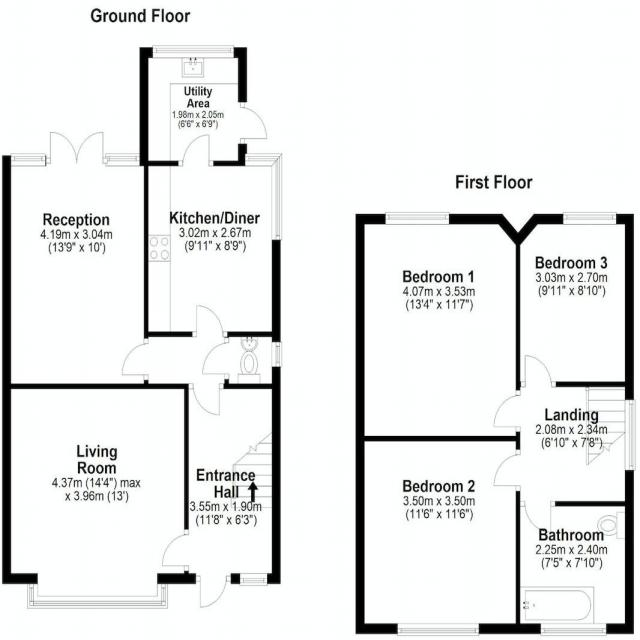DOOR: (238, 101, 268, 145), (195, 573, 231, 609), (519, 500, 556, 535), (190, 304, 229, 337), (121, 336, 149, 381), (520, 354, 557, 388), (187, 383, 224, 417), (176, 134, 215, 166), (493, 448, 521, 492), (161, 528, 189, 572), (201, 337, 229, 381), (493, 389, 520, 433)
DOUBLE DOOR: (46, 125, 109, 168)
ROOM: (1, 383, 189, 609), (355, 211, 521, 441), (2, 130, 149, 389), (355, 436, 521, 636), (144, 134, 283, 338), (516, 211, 634, 387)
WINDOW: (26, 583, 169, 609), (244, 153, 283, 242), (396, 622, 480, 637), (152, 44, 235, 59), (623, 399, 637, 472), (539, 622, 607, 637), (384, 210, 450, 225), (562, 211, 617, 225), (10, 153, 47, 167), (105, 153, 141, 167), (239, 572, 268, 586), (271, 341, 283, 368)
